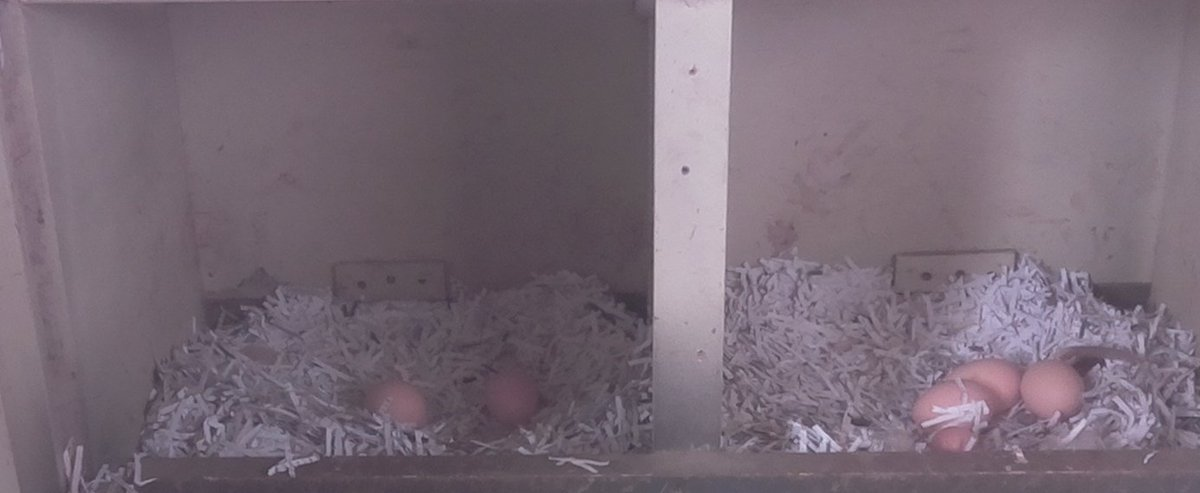egg: (909, 379, 1004, 434), (1014, 355, 1090, 420), (937, 357, 1024, 408), (479, 361, 544, 424), (360, 379, 432, 432), (920, 421, 989, 449)
